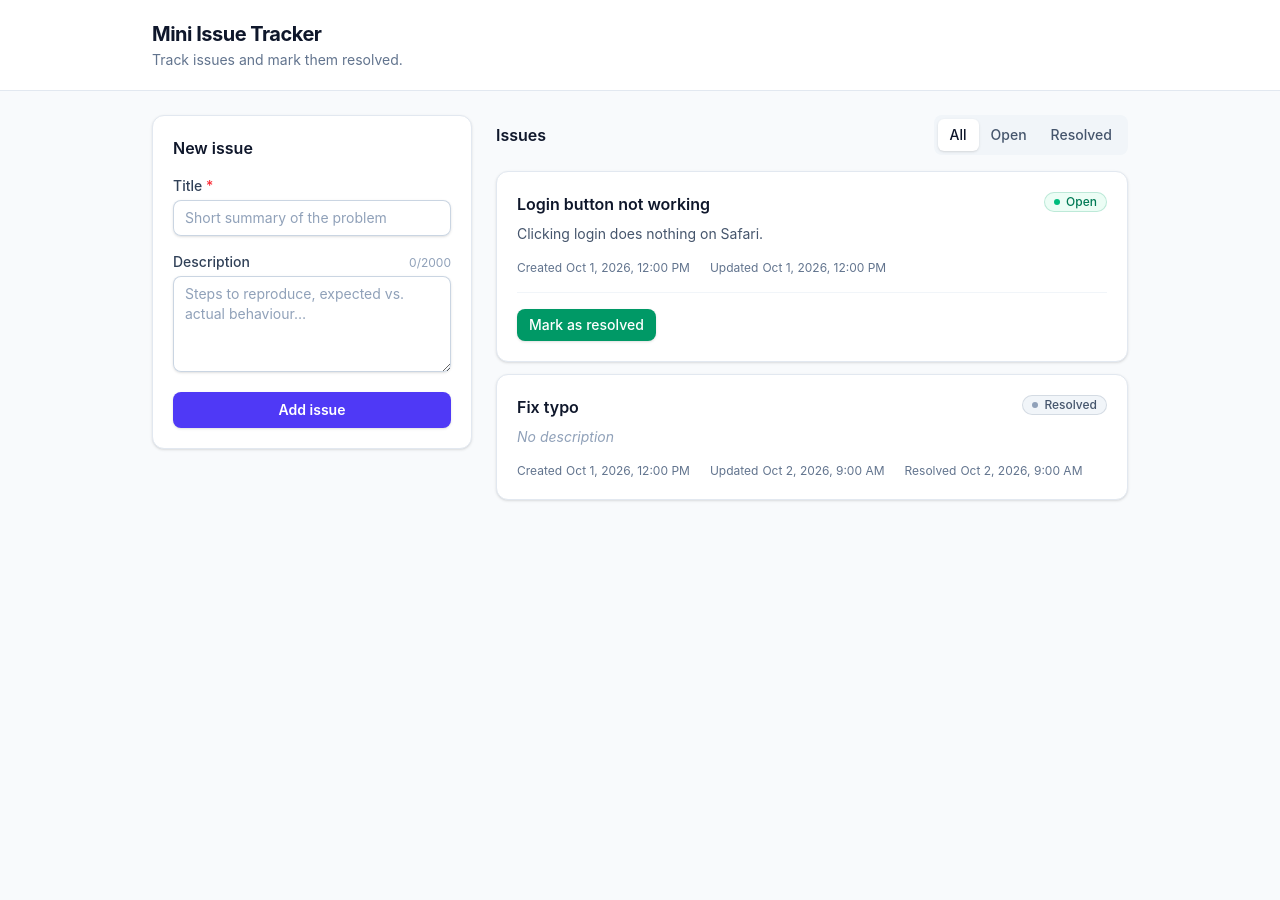
Test: App › adds a created issue to the top of the list
Expected: the element "Login button not working" is shown, [496, 171, 1128, 362]
Type "Brand new issue" into the field labelled "Title *" at coordinates (312, 218), box [173, 200, 451, 236]
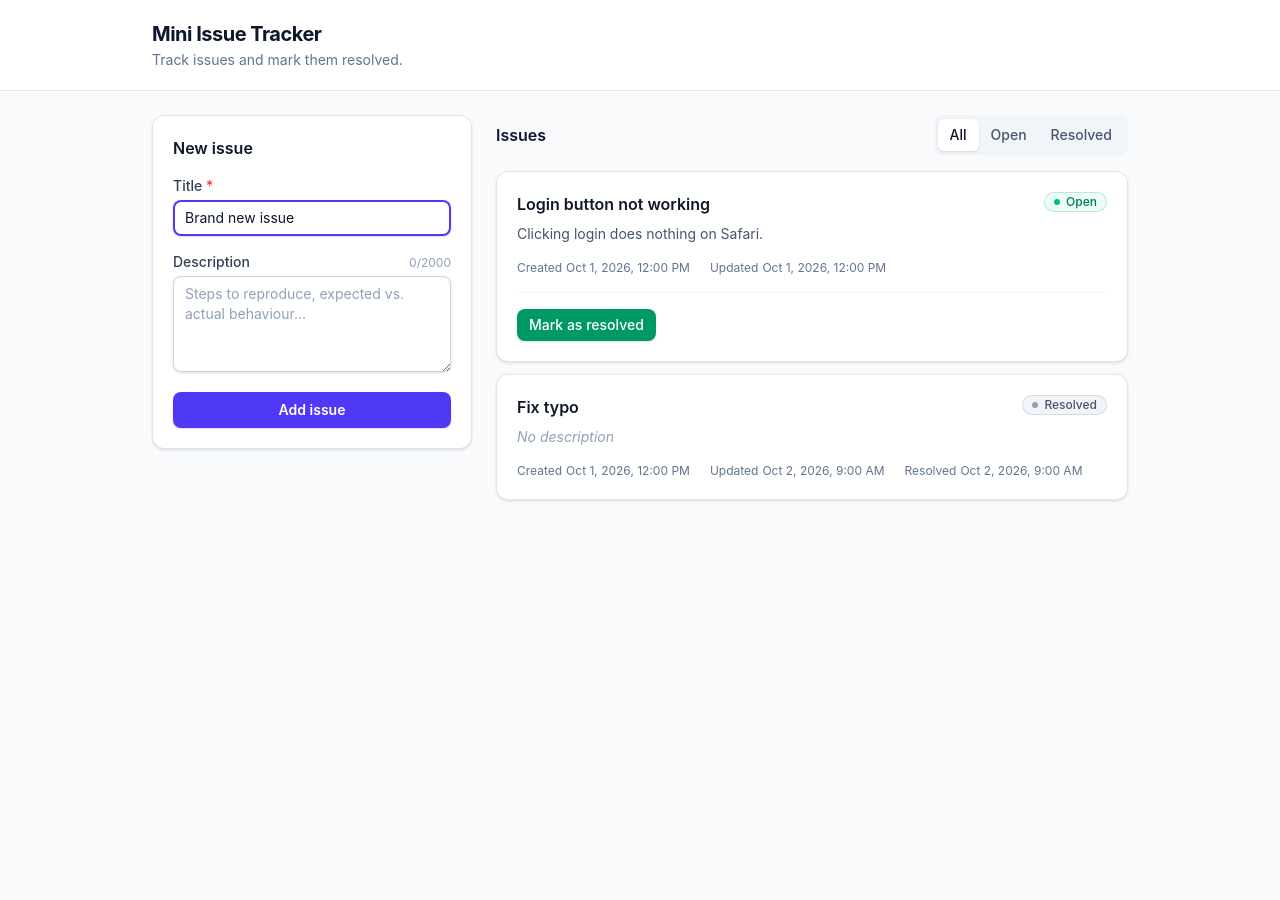
Click the button "Add issue" at coordinates (312, 410), box [173, 392, 451, 428]
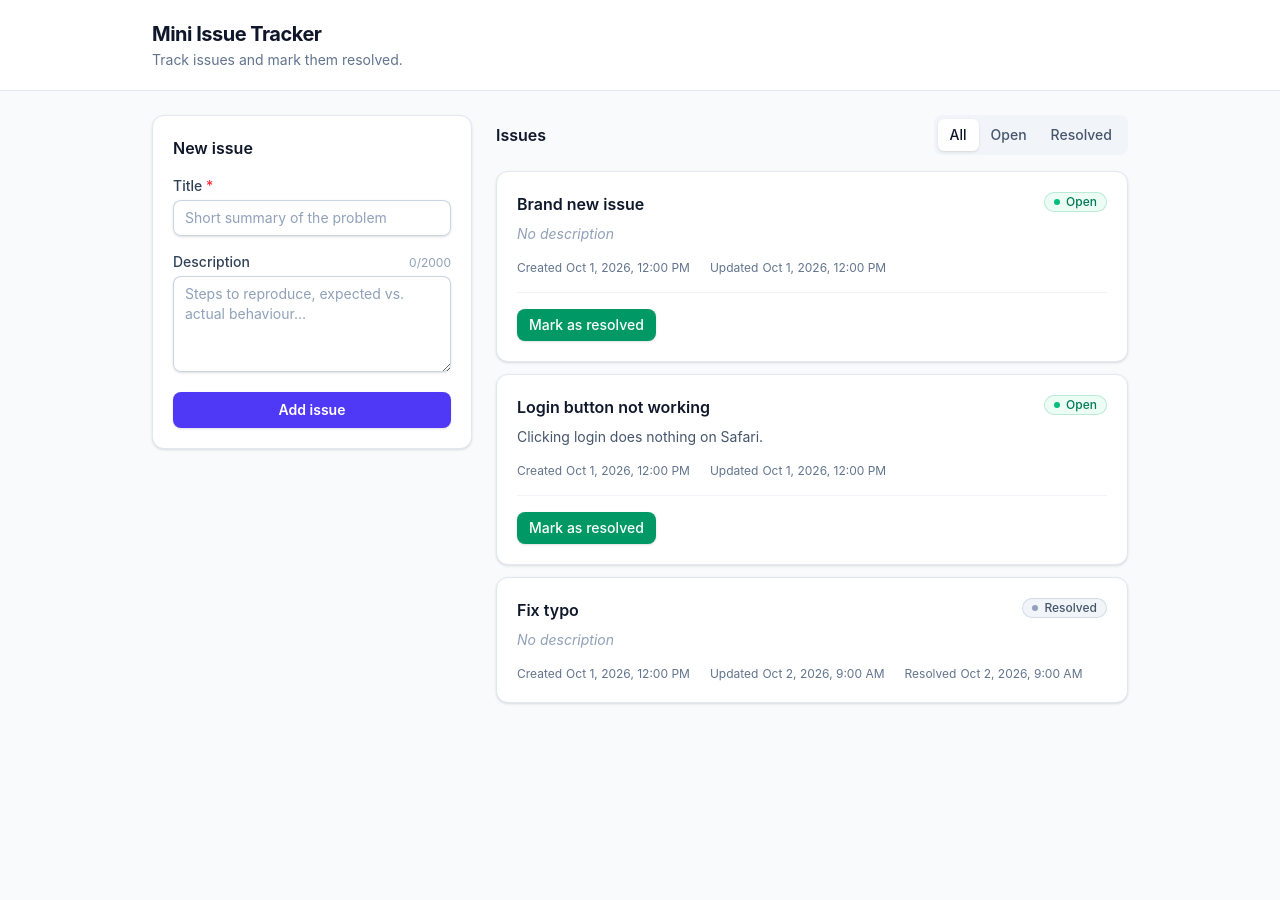
Expected: the headings read "Brand new issue", "Login button not working", "Fix typo", in this order, [517, 192, 644, 216]; [517, 395, 710, 419]; [517, 598, 579, 622]
